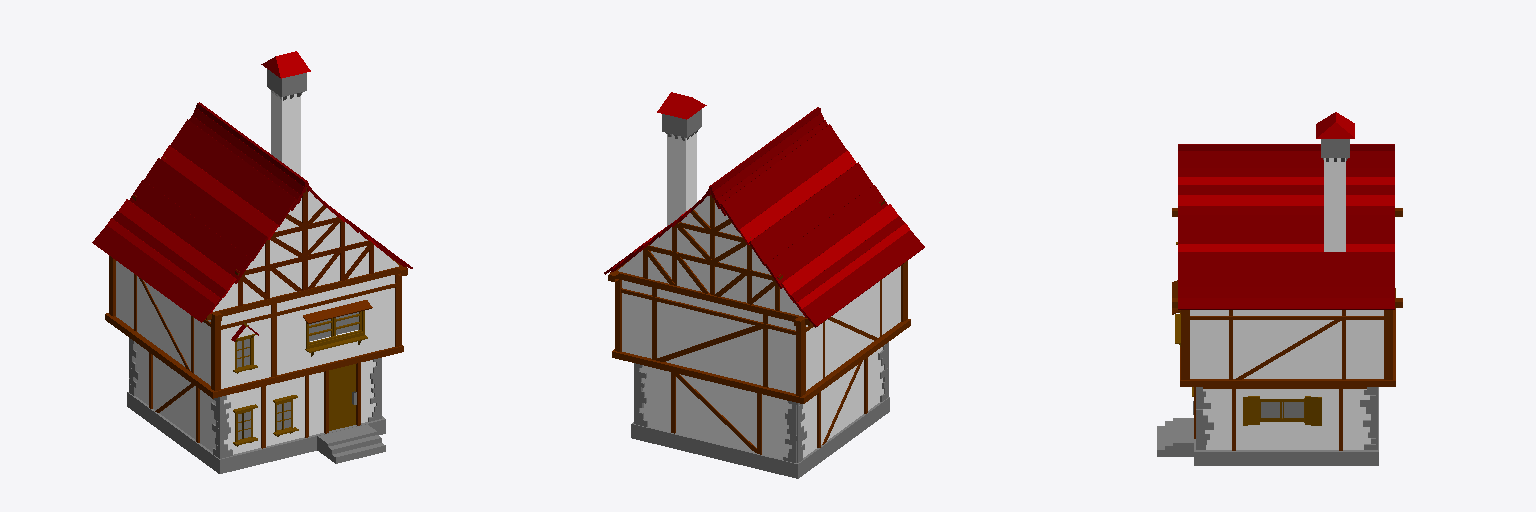
File: house_high.obj
3 renders of one model, left to right at view 1: azimuth 30°, elevation 25°; view 2: azimuth 150°, elevation 25°; view 3: azimuth 270°, elevation 25°, orthographic.
Parts seen in each view (by area): view 1: House_001:body House_001:pCube70, House_001:body House_001:pCube1, House_001:body House_001:pPrism1, House_001:group17 House_001:pCube163, House_001:group17 House_001:pCube165, House_001:pCube26 House_001:body, House_001:group17 House_001:pCube168, House_001:group17 House_001:pCube171, House_001:group17 House_001:pCube164, House_001:group17 House_001:pCube175, House_001:pCube194, House_001:pCube116 (+16 smaller); view 2: House_001:body House_001:pCube70, House_001:body House_001:pCube1, House_001:body House_001:pPrism1, House_001:group17 House_001:pCube163, House_001:pCube26 House_001:body, House_001:group17 House_001:pCube165, House_001:group17 House_001:pCube168, House_001:group17 House_001:pCube171, House_001:pCube194, House_001:group17 House_001:pCube164, House_001:group17 House_001:pCube175, House_001:pCube119 (+13 smaller); view 3: House_001:body House_001:pCube70, House_001:body House_001:pCube1, House_001:group18 House_001:pCube177, House_001:group18 House_001:pCube160, House_001:group18 House_001:pCube173, House_001:pCube26 House_001:body, House_001:group18 House_001:pCube167, House_001:group18 House_001:pCube169, House_001:group18 House_001:pCube171, House_001:group18 House_001:pCube172, House_001:group18 House_001:pCube164, House_001:pCube194 (+13 smaller).
Boxes of the visible parts, <box> form: House_001:body House_001:pCube70: <box>116,261,394,388</box>; House_001:body House_001:pCube1: <box>134,342,375,454</box>; House_001:body House_001:pPrism1: <box>213,191,398,311</box>; House_001:group17 House_001:pCube163: <box>170,119,296,226</box>; House_001:group17 House_001:pCube165: <box>144,158,267,260</box>; House_001:pCube26 House_001:body: <box>127,392,385,473</box>; House_001:group17 House_001:pCube168: <box>129,180,251,283</box>; House_001:group17 House_001:pCube171: <box>92,225,216,322</box>; House_001:group17 House_001:pCube164: <box>161,145,278,239</box>; House_001:group17 House_001:pCube175: <box>119,199,236,297</box>; House_001:pCube194: <box>271,92,300,175</box>; House_001:pCube116: <box>210,345,403,396</box>; House_001:body House_001:pCube70: <box>622,266,900,393</box>; House_001:body House_001:pCube1: <box>640,347,883,458</box>; House_001:body House_001:pPrism1: <box>618,196,804,316</box>; House_001:group17 House_001:pCube163: <box>720,124,846,231</box>; House_001:pCube26 House_001:body: <box>631,397,889,478</box>; House_001:group17 House_001:pCube165: <box>749,162,872,265</box>; House_001:group17 House_001:pCube168: <box>765,185,887,288</box>; House_001:group17 House_001:pCube171: <box>802,230,924,327</box>; House_001:pCube194: <box>667,133,696,225</box>; House_001:group17 House_001:pCube164: <box>739,150,856,244</box>; House_001:group17 House_001:pCube175: <box>781,204,898,302</box>; House_001:pCube119: <box>612,349,807,403</box>; House_001:body House_001:pCube70: <box>1190,310,1383,378</box>; House_001:body House_001:pCube1: <box>1203,389,1370,449</box>; House_001:group18 House_001:pCube177: <box>1178,266,1394,286</box>; House_001:group18 House_001:pCube160: <box>1178,151,1394,167</box>; House_001:group18 House_001:pCube173: <box>1178,252,1394,265</box>; House_001:pCube26 House_001:body: <box>1194,387,1378,465</box>; House_001:group18 House_001:pCube167: <box>1178,229,1394,243</box>; House_001:group18 House_001:pCube169: <box>1178,215,1394,228</box>; House_001:group18 House_001:pCube171: <box>1178,298,1394,309</box>; House_001:group18 House_001:pCube172: <box>1178,287,1394,297</box>; House_001:group18 House_001:pCube164: <box>1178,195,1394,205</box>; House_001:pCube194: <box>1324,158,1345,251</box>.
Bounding box in the file's own units: 5.38 × 8.09 × 5.38.